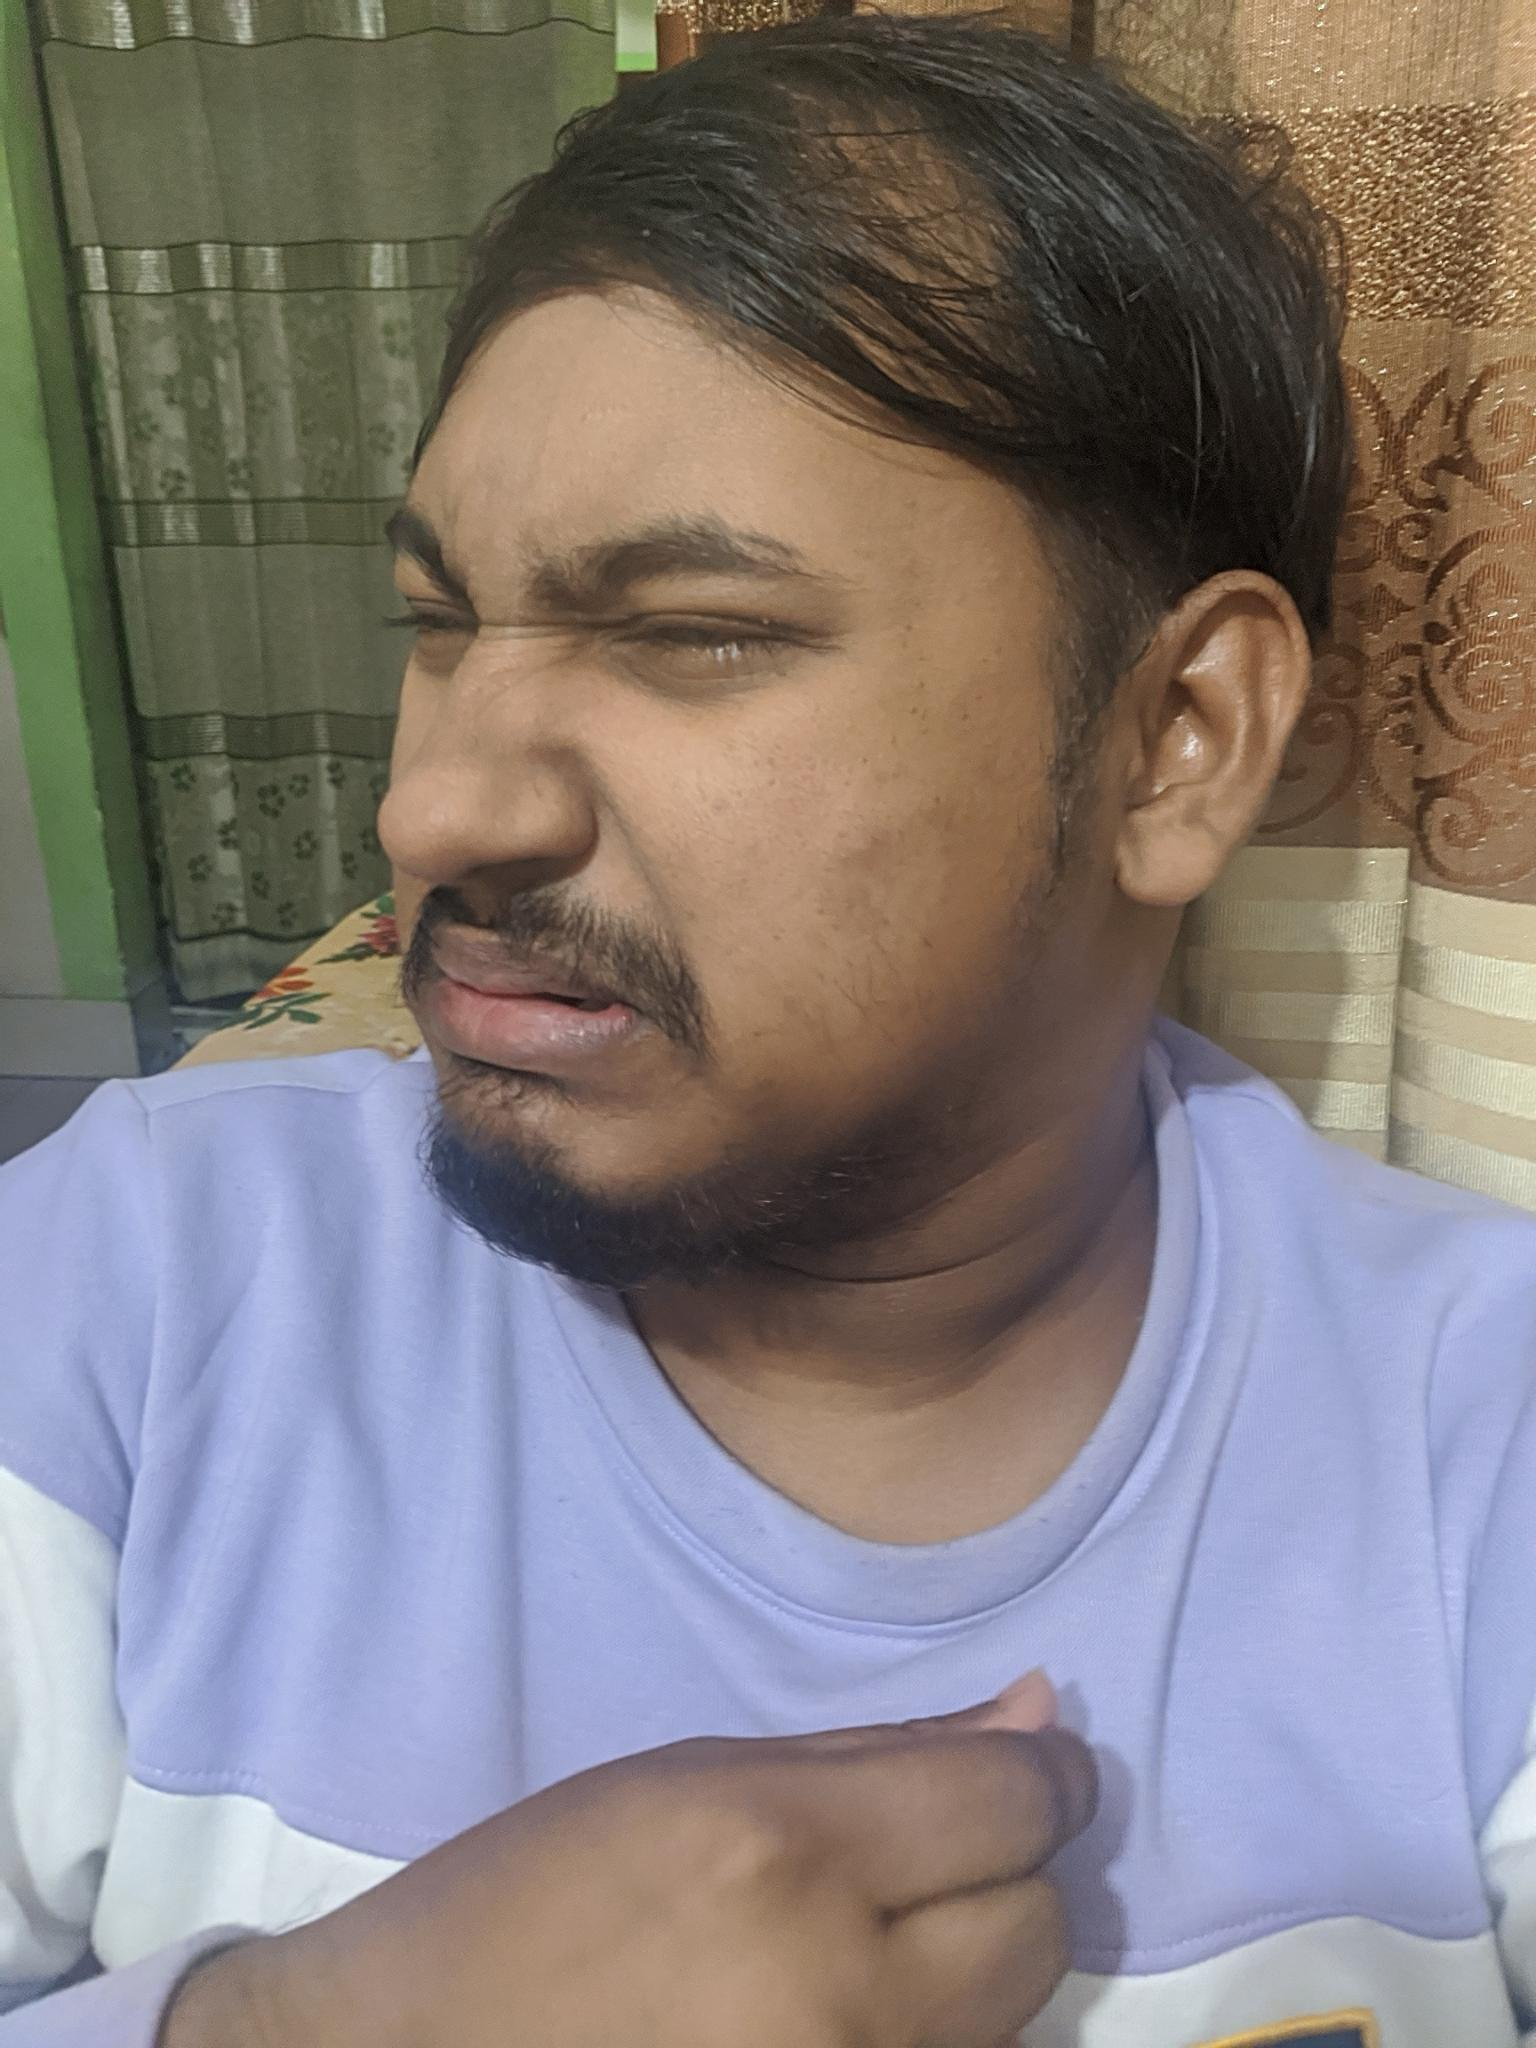Disgust: (321, 366, 966, 1282)
